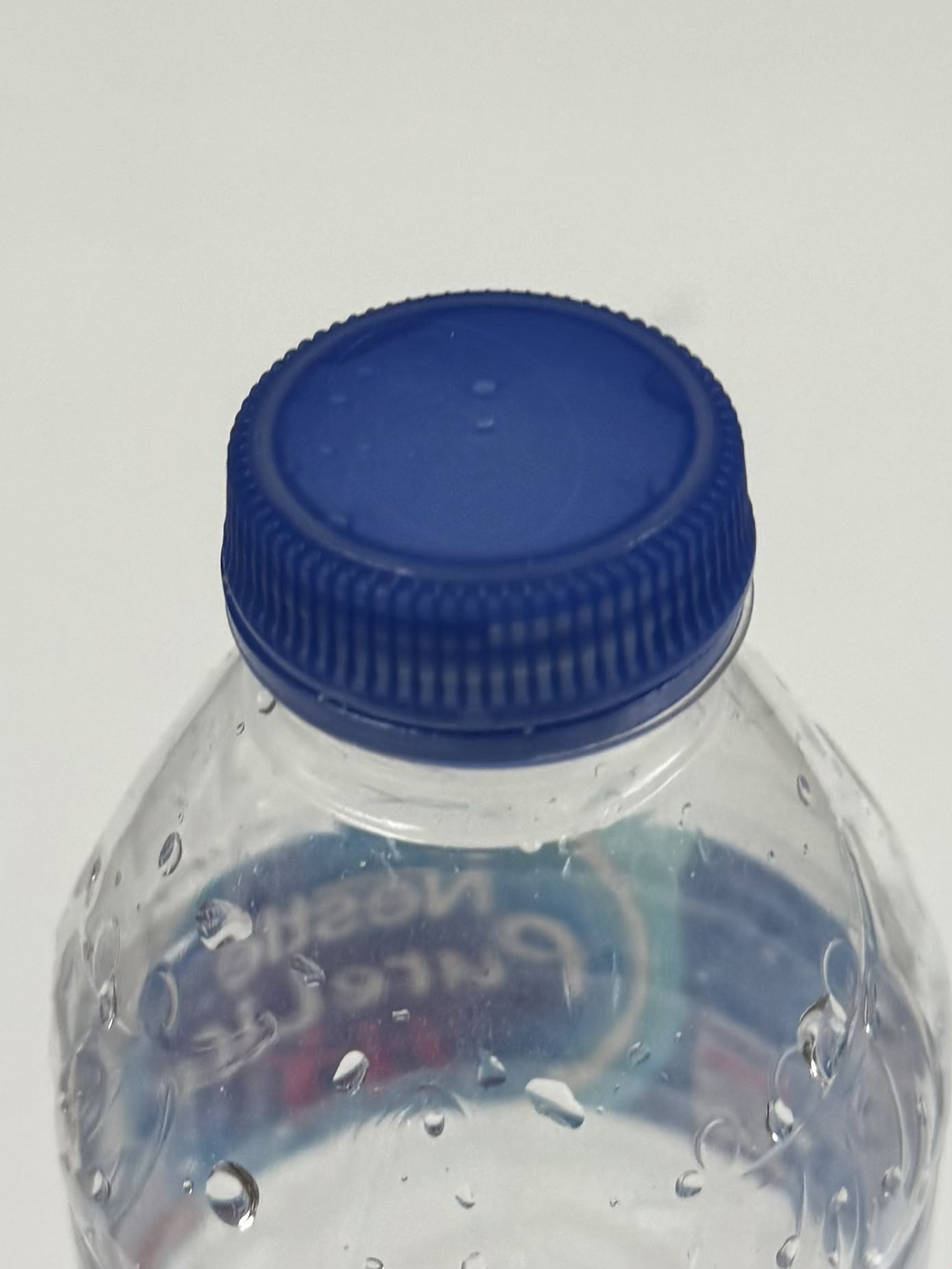closed_cap: (215, 281, 762, 760)
